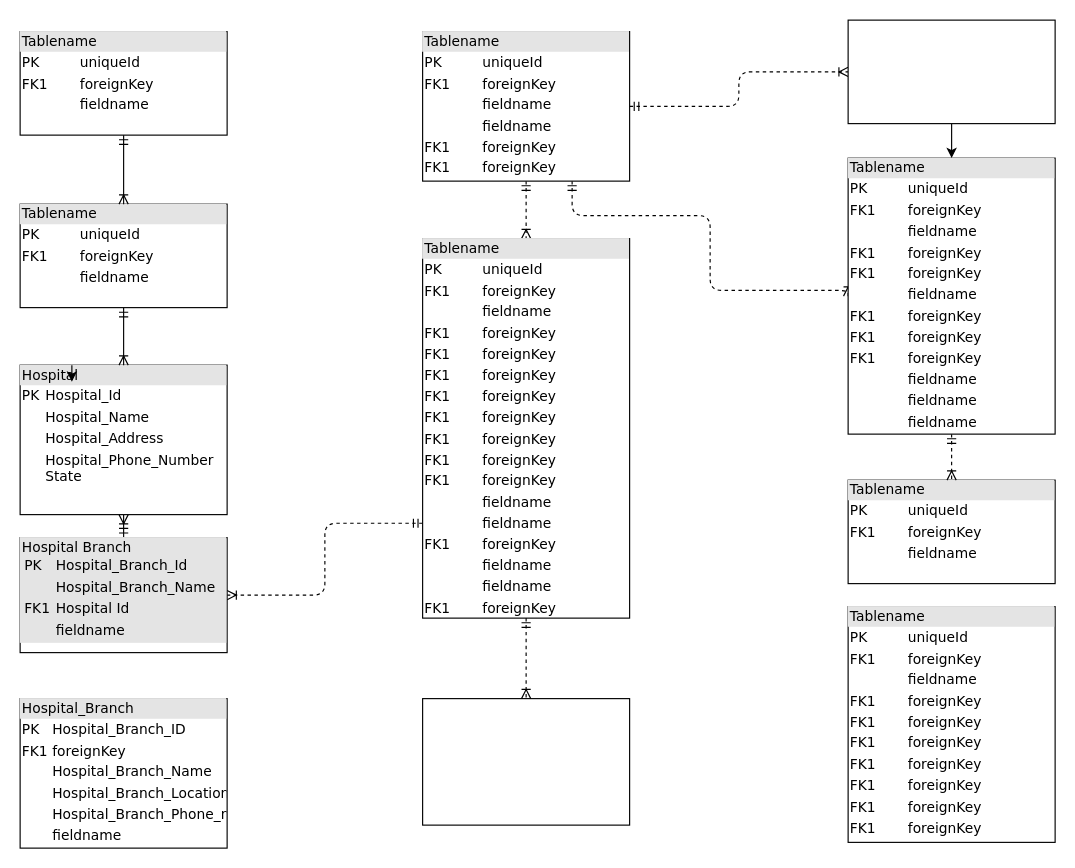
The diagram is 1075 pixels wide and 868 high, and some of its shapes have lost their labels. Here are the shapes that lost their labels. From the top down, the box of each, then its label:
(847, 19, 1055, 124): Patient PK uniqueId FK1 foreignKey fieldname
(421, 697, 630, 825): Tablename PK uniqueId FK1 foreignKey fieldname fieldname FK1 foreignKey
